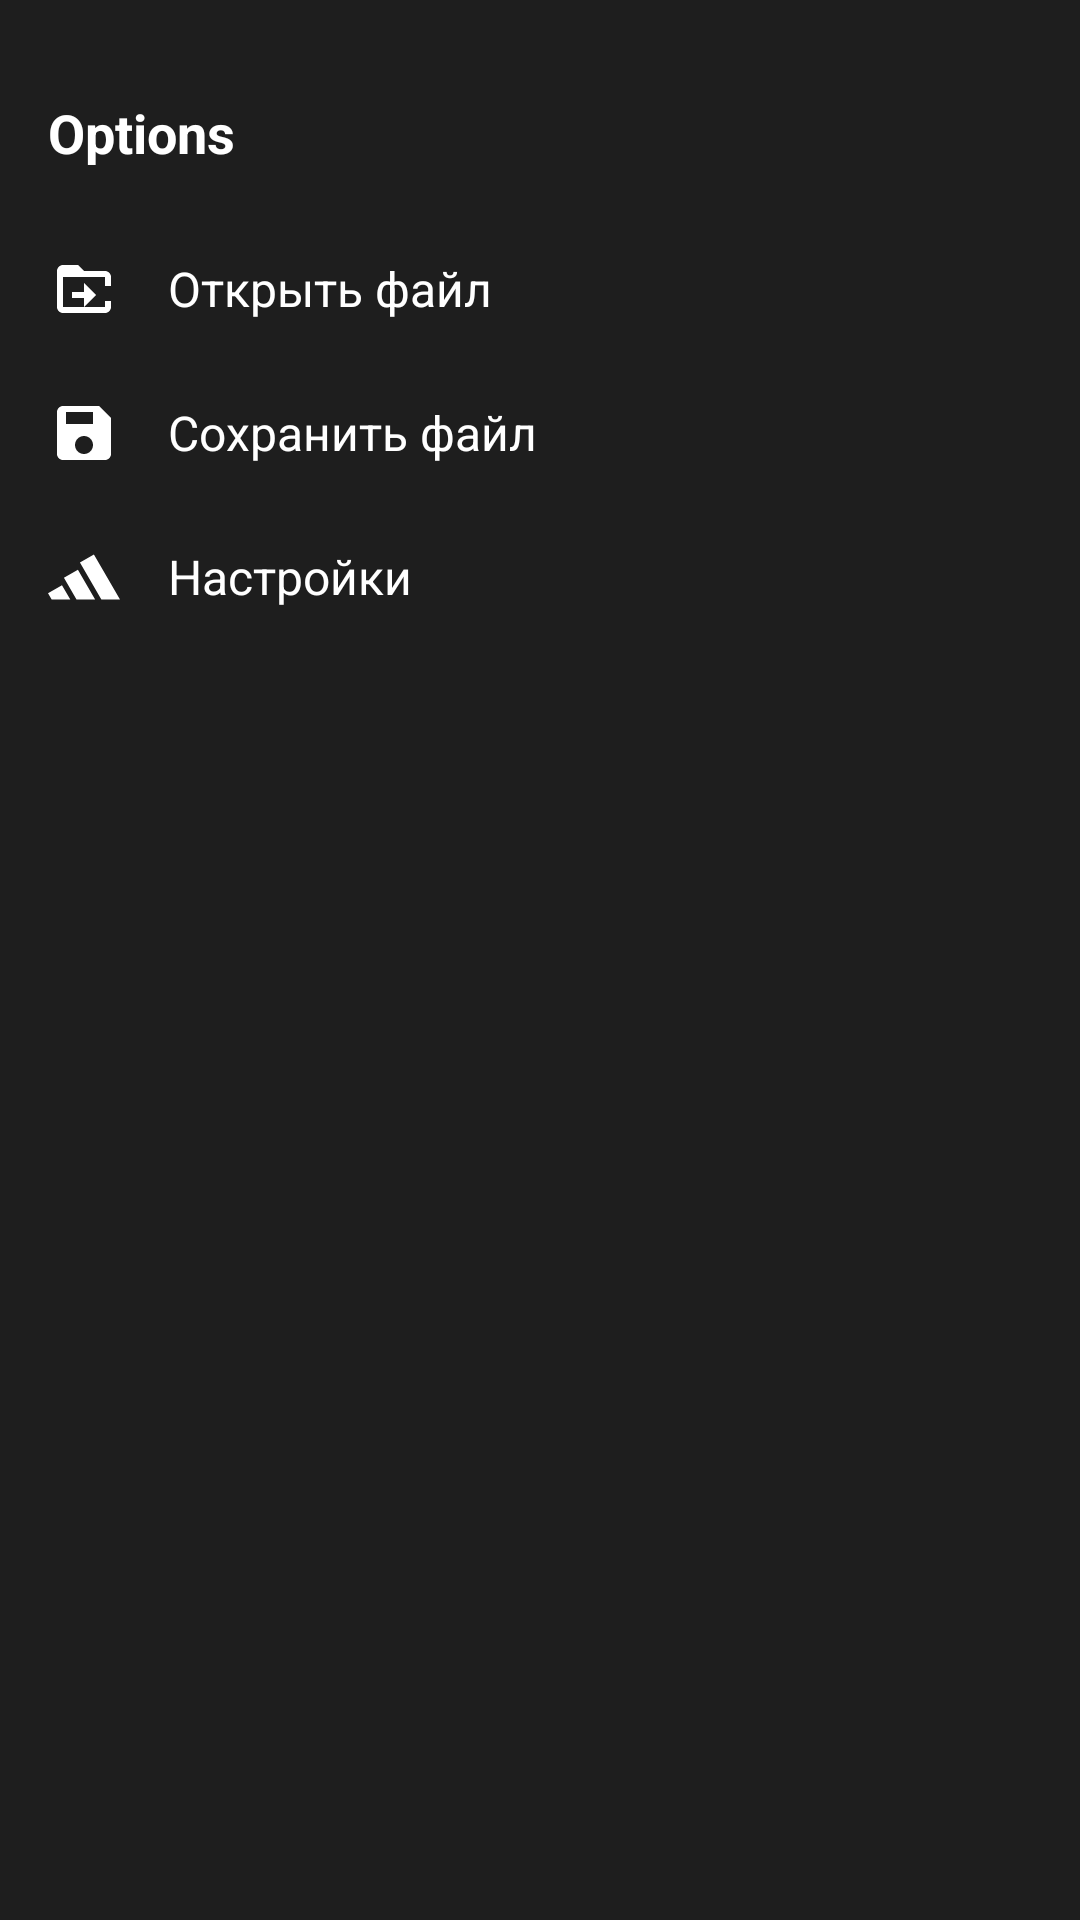

Named icons in this screenshot (1080 x 1920) and their centers, (x,y):
open: (84,289)
save: (84,433)
